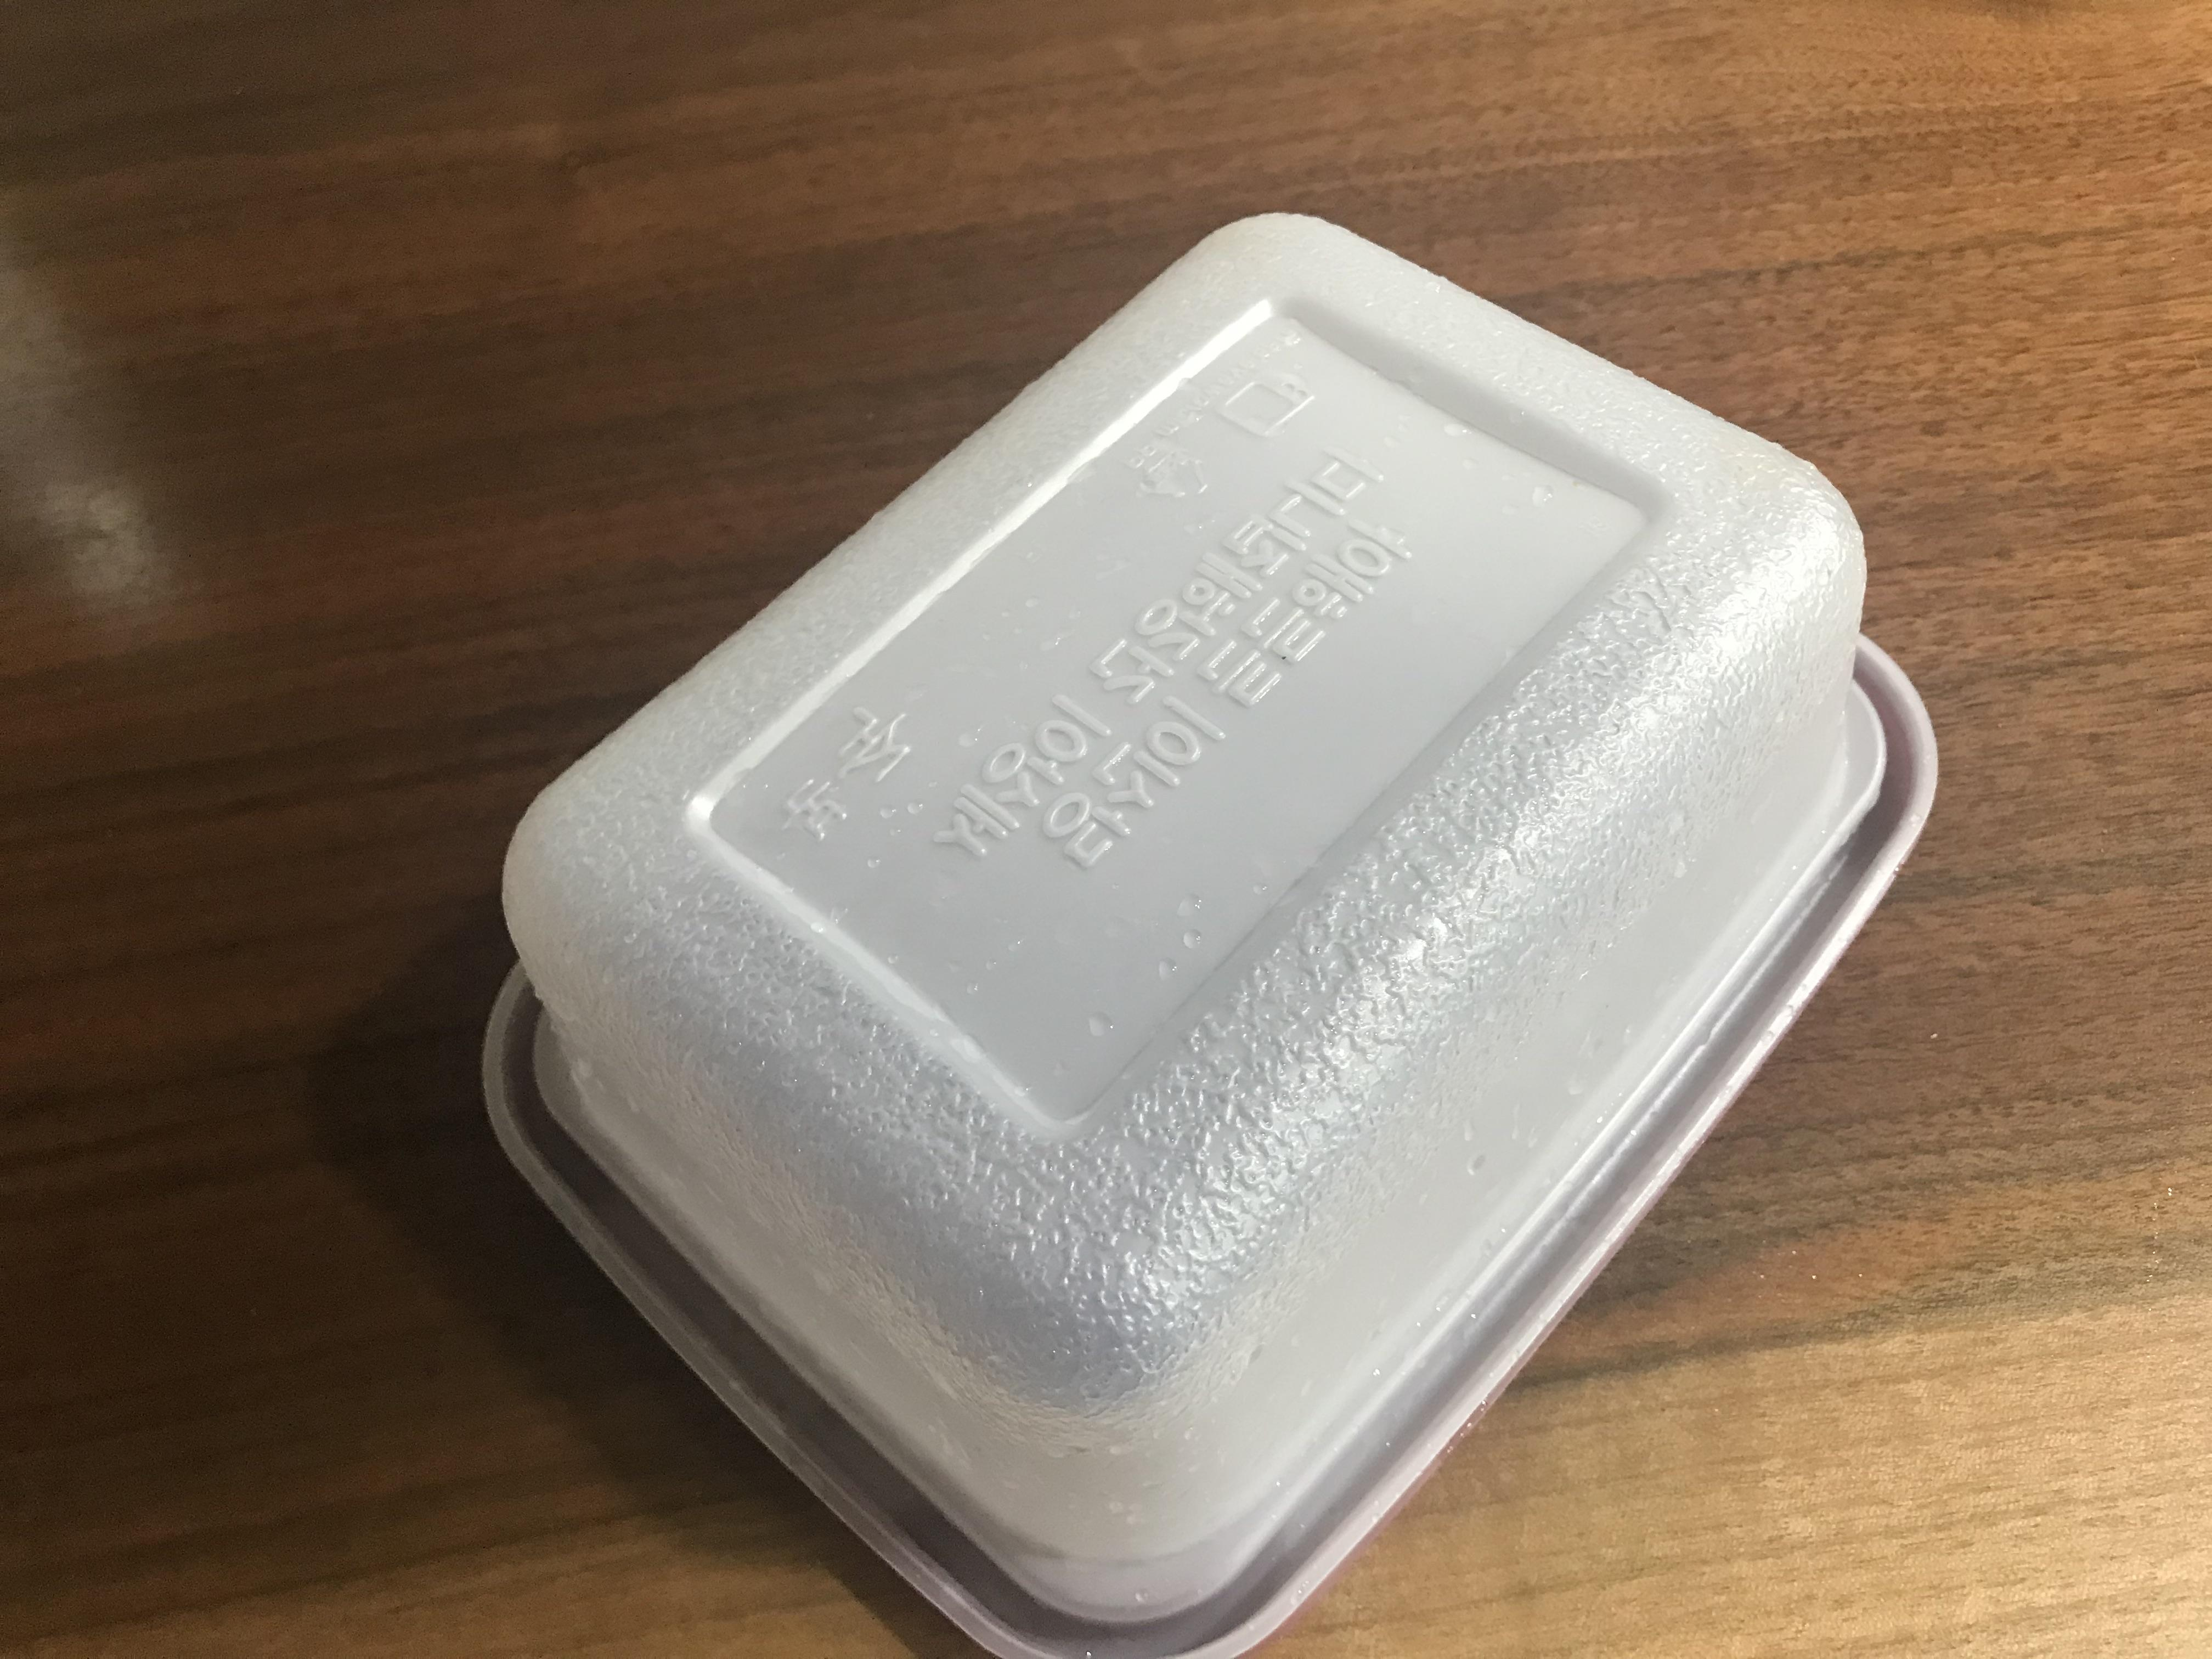bottle: (423, 917, 1970, 929)
